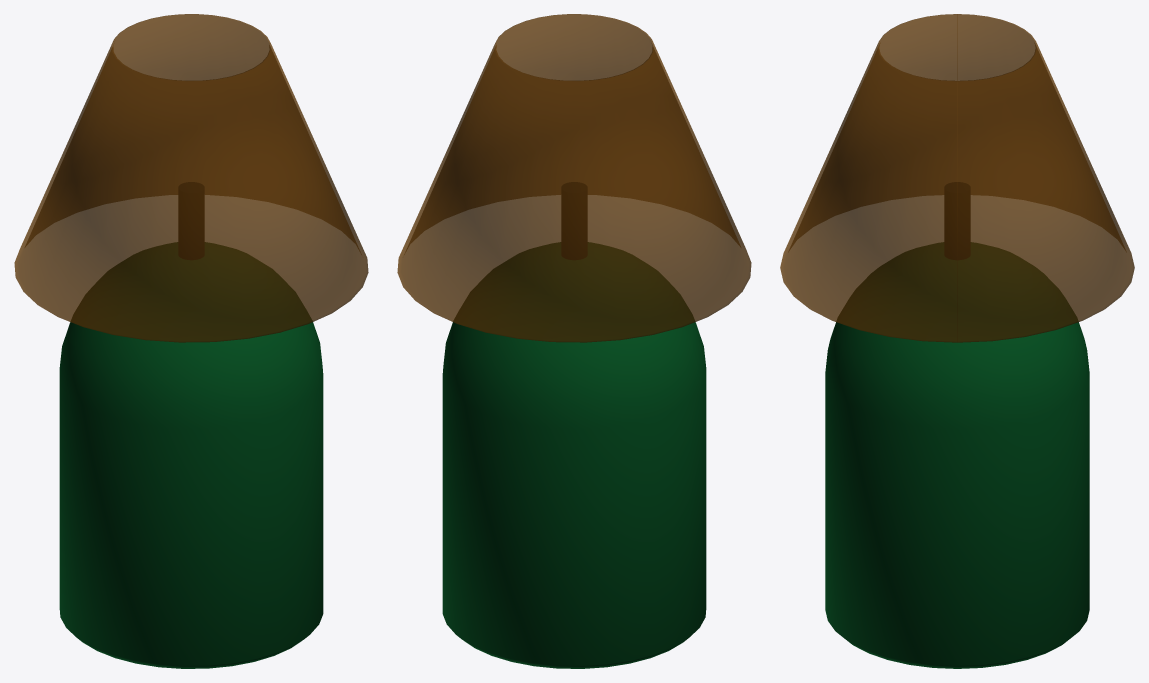
The model's file is lampe.glb.
3 views of the same model, side by side, from view 1: azimuth 30°, elevation 25°; view 2: azimuth 150°, elevation 25°; view 3: azimuth 270°, elevation 25° (orthographic).
Visible parts, largest first — view 1: Sphere, Cylinder.001, Cylinder; view 2: Sphere, Cylinder.001, Cylinder; view 3: Sphere, Cylinder.001, Cylinder.
Part boxes in pixels (bbox=[...]): Sphere: bbox=[59, 242, 323, 668]; Cylinder.001: bbox=[14, 14, 368, 342]; Cylinder: bbox=[179, 182, 203, 259]; Sphere: bbox=[442, 242, 706, 668]; Cylinder.001: bbox=[397, 14, 751, 342]; Cylinder: bbox=[562, 182, 586, 259]; Sphere: bbox=[825, 242, 1089, 668]; Cylinder.001: bbox=[780, 14, 1134, 342]; Cylinder: bbox=[945, 182, 969, 259].
Size of the model in its own units: 2.68 by 4.74 by 2.68.
